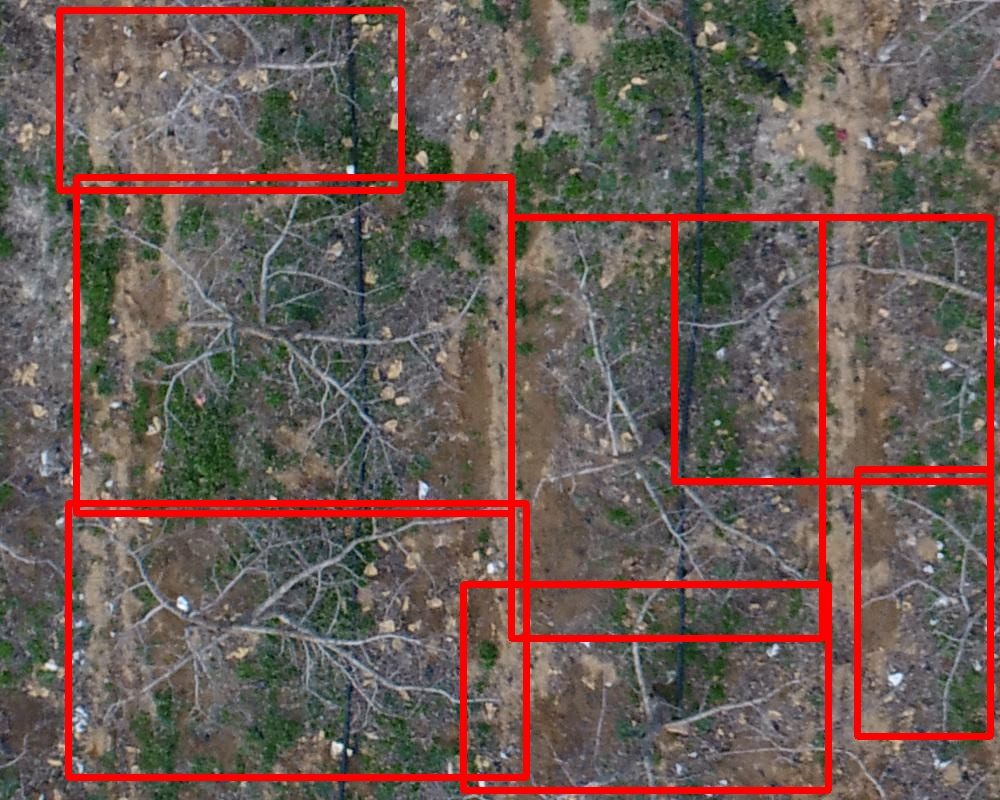apple: (76, 177, 511, 513), (511, 217, 822, 638), (68, 503, 526, 777), (674, 217, 990, 481), (463, 584, 828, 790), (59, 10, 401, 190), (857, 469, 990, 736)
